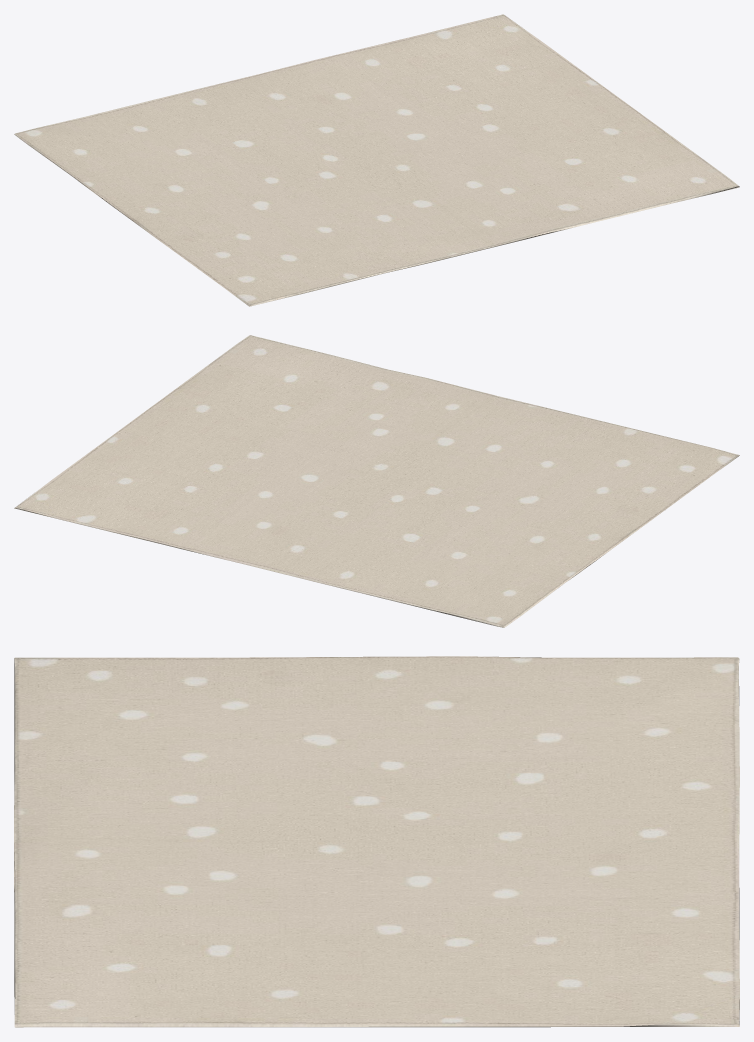
The model's file is len_dywan_z_krotkim_wosiem_40625109.glb.
The picture shows the model from 3 angles, top to bottom: view 1: azimuth 30°, elevation 25°; view 2: azimuth 150°, elevation 25°; view 3: azimuth 270°, elevation 25°; orthographic projection. The views are drawn at different scales.
Visible parts, largest first — view 1: len_dywan_z_krotkim_wosiem_40625109; view 2: len_dywan_z_krotkim_wosiem_40625109; view 3: len_dywan_z_krotkim_wosiem_40625109.
Boxes of the visible parts, x1,y1,x2,y2 form: len_dywan_z_krotkim_wosiem_40625109: [14, 14, 739, 306]; len_dywan_z_krotkim_wosiem_40625109: [14, 335, 739, 627]; len_dywan_z_krotkim_wosiem_40625109: [14, 656, 739, 1027].
Bounding box in the file's own units: 1.6 × 0.00854 × 1.33.
1 material, 1 textured.
